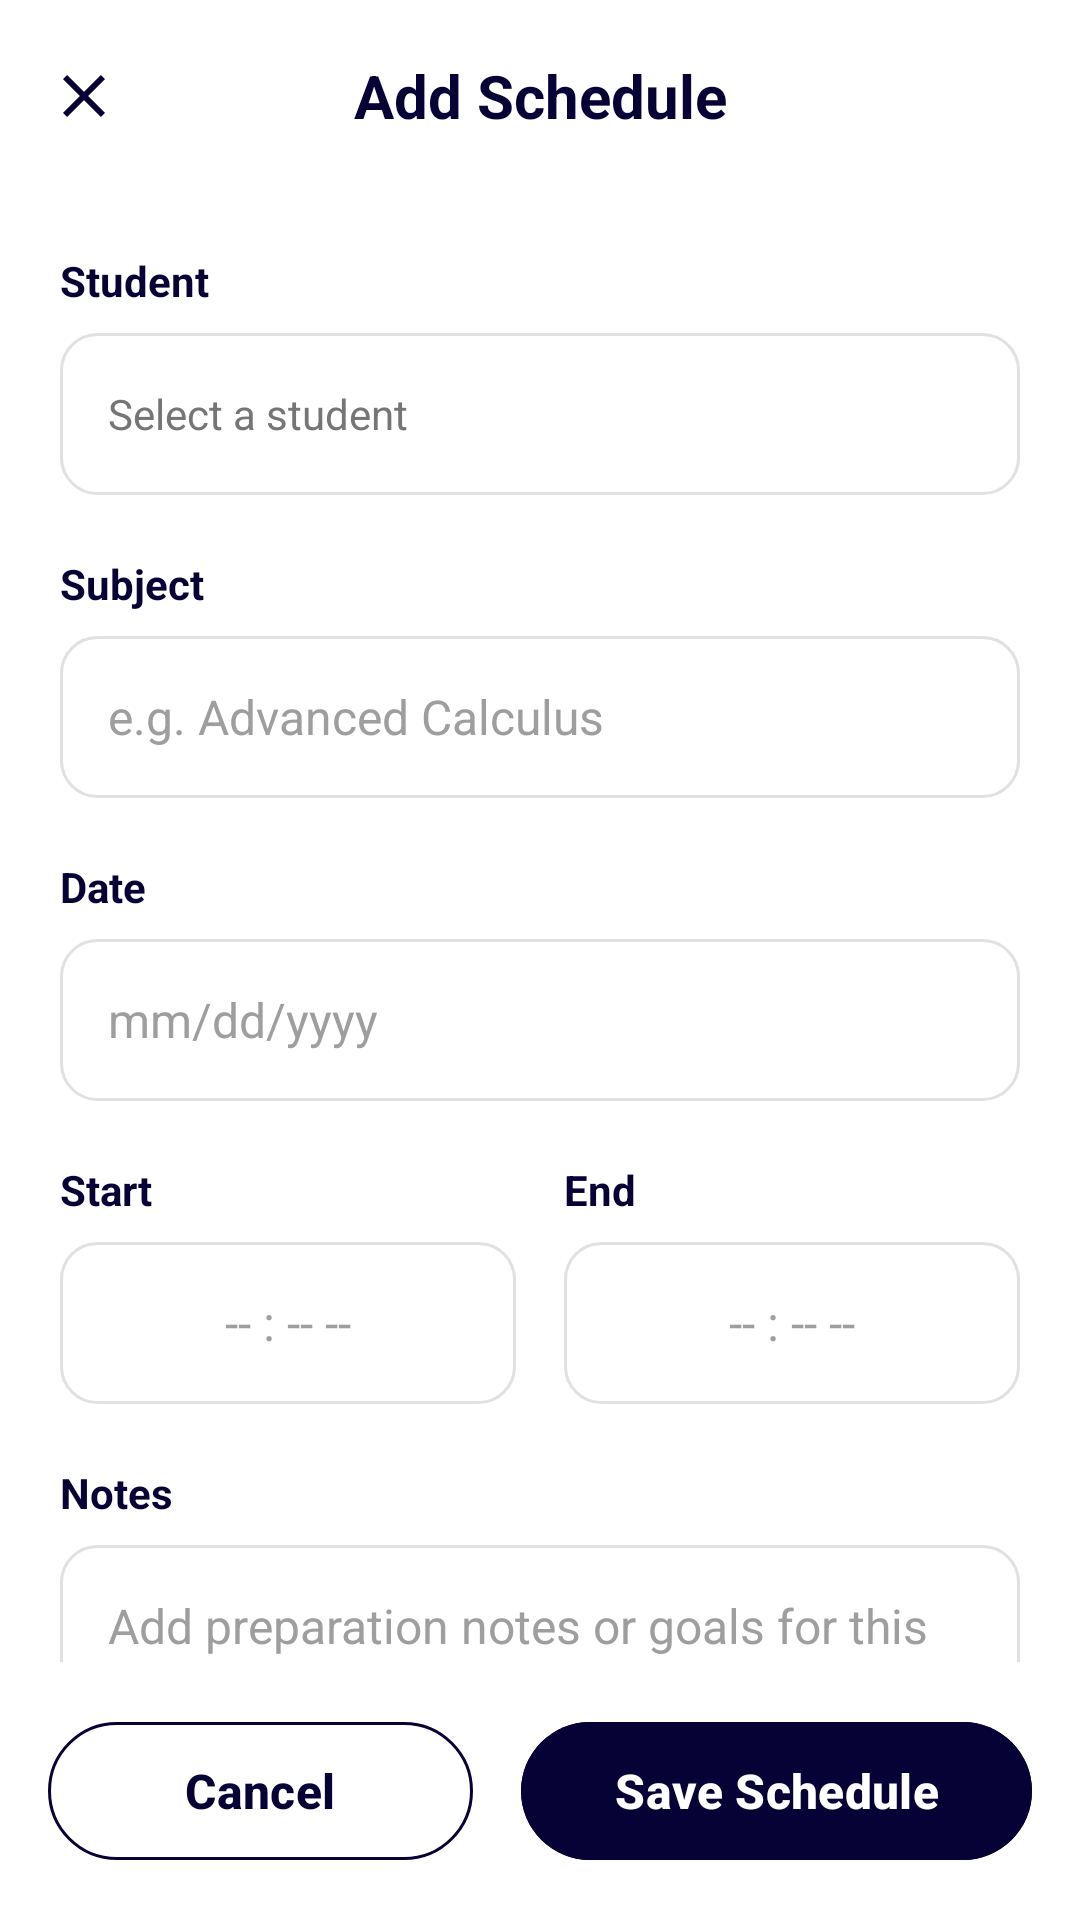

Named icons in this screenshot (1080w x 1920h) and their bounding boxes, (x1, y1, x2, y2):
close: (63, 75, 105, 117)
